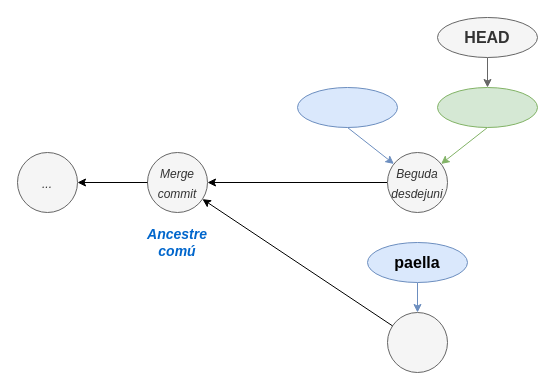
Some shapes in this 555 by 390 pixel diagram are drawn without their labels. Each missing label, with the box of its shape:
desdejuni: (296, 86, 398, 128)
main: (436, 86, 538, 128)
Menjar paella: (386, 312, 448, 372)
